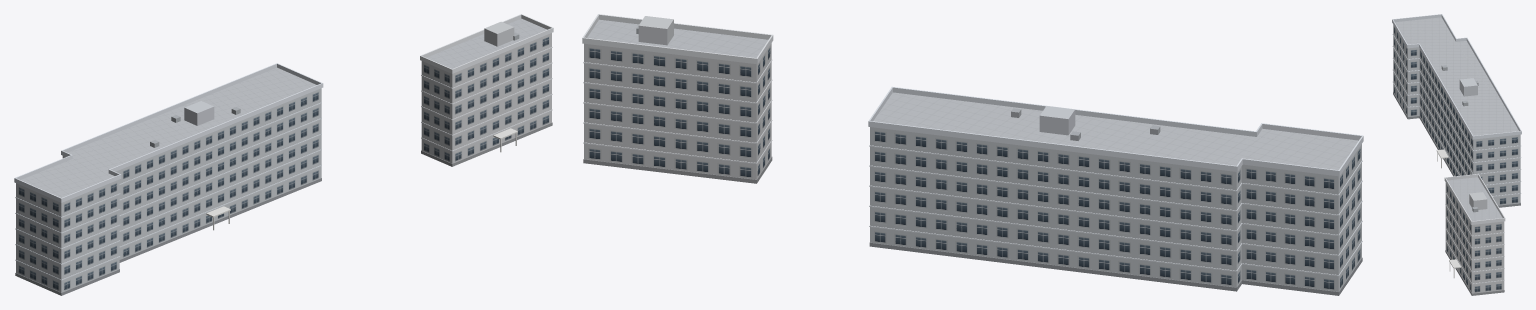
3 renders of one model, left to right at view 1: azimuth 30°, elevation 25°; view 2: azimuth 150°, elevation 25°; view 3: azimuth 270°, elevation 25°, orthographic. The views are drawn at different scales.
Visible parts, largest first — view 1: 1425305069, 1425305089; view 2: 1425305069, 1425305089; view 3: 1425305069, 1425305089.
Part boxes in pixels (left/top/right/bottom): 1425305069: left=14, top=63, right=323, bottom=295; 1425305089: left=420, top=14, right=553, bottom=166; 1425305069: left=868, top=86, right=1363, bottom=295; 1425305089: left=582, top=14, right=773, bottom=183; 1425305069: left=1392, top=14, right=1521, bottom=207; 1425305089: left=1444, top=174, right=1505, bottom=295.
Bounding box in the file's own units: 138 × 25.2 × 36.44.
Materials: 3 (2 with a texture image).
